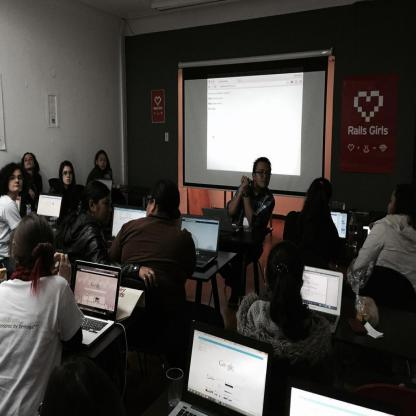board: (174, 326, 274, 416), (71, 259, 122, 347), (287, 386, 396, 416), (300, 264, 344, 334), (180, 214, 221, 271), (108, 204, 146, 239), (203, 209, 247, 233), (36, 192, 64, 223), (329, 207, 349, 243), (94, 179, 113, 190)
